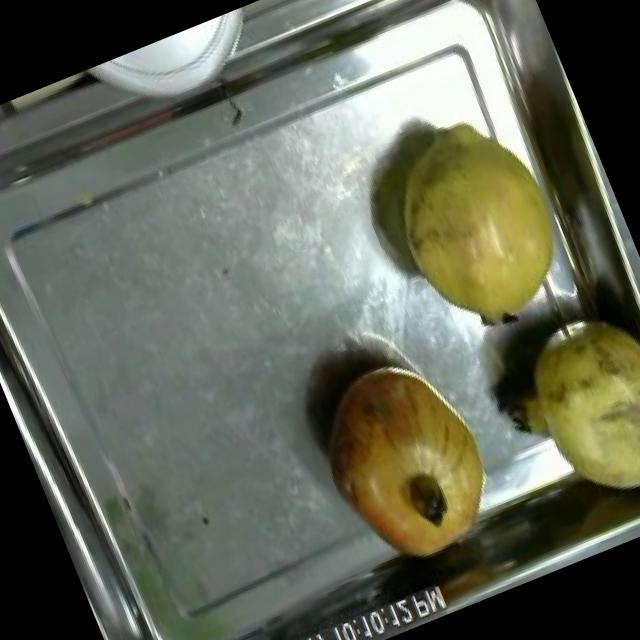fruit: (360, 93, 596, 365), (294, 330, 520, 585), (479, 283, 640, 531)
